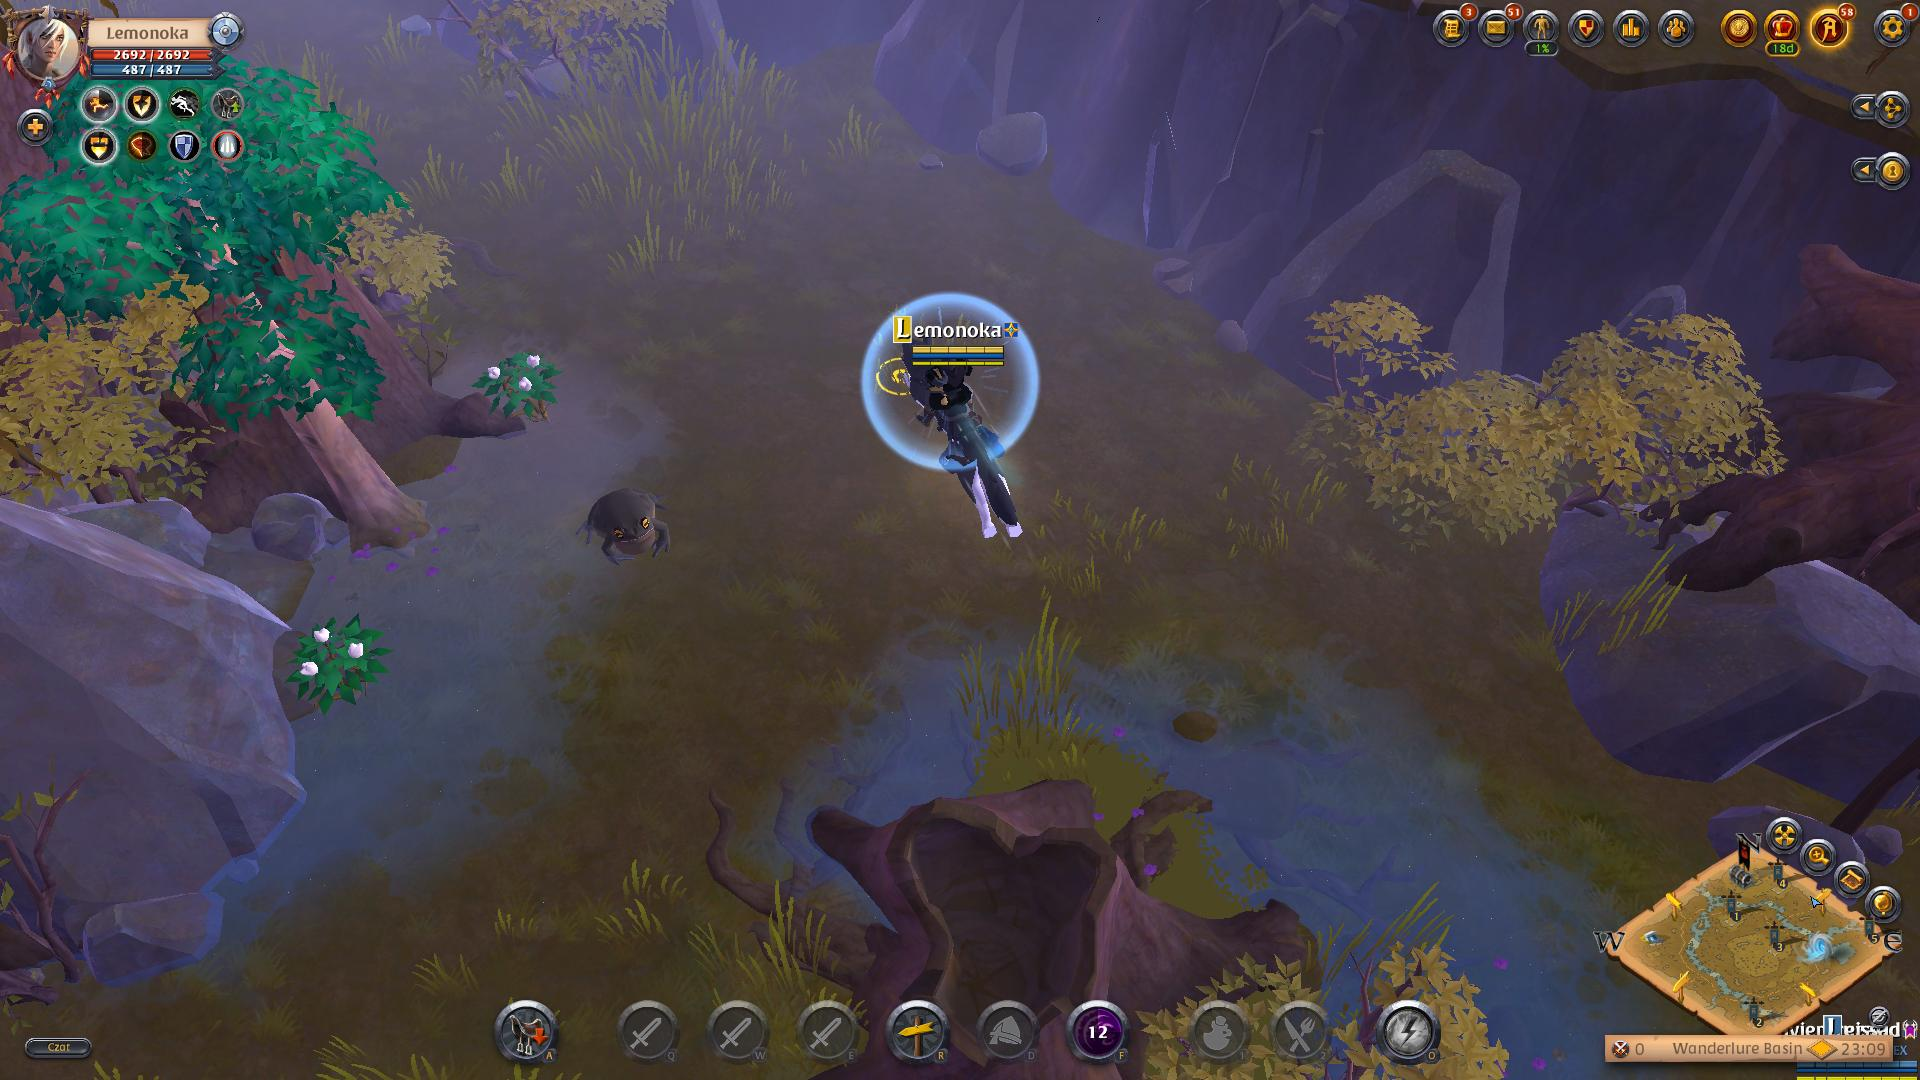fiber tier 3: (295, 609, 396, 725), (475, 343, 572, 438)
